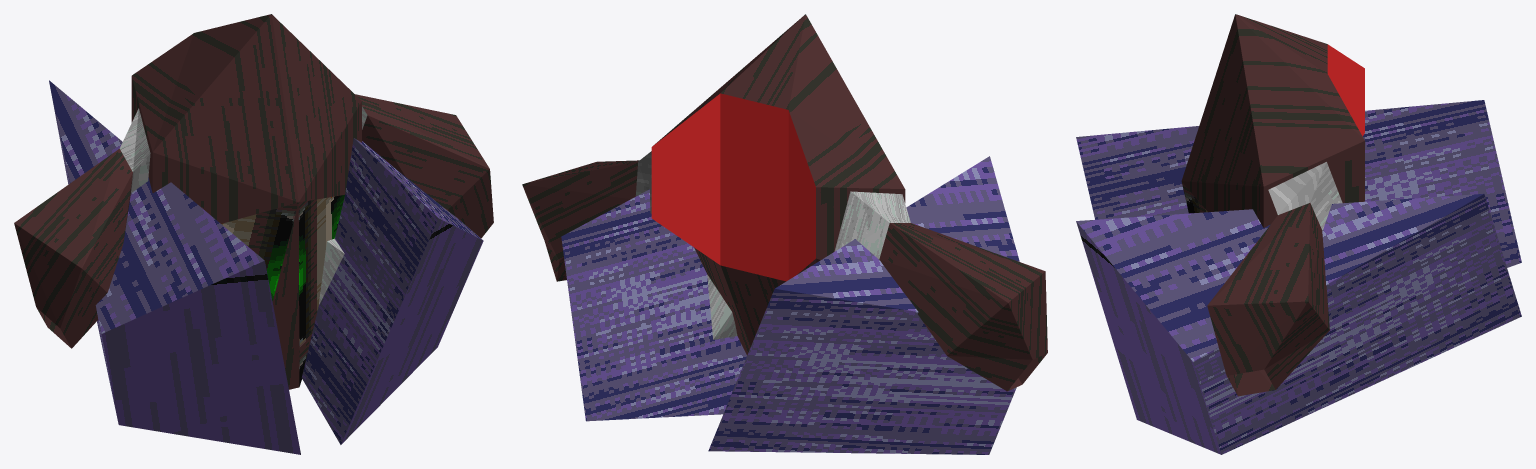
The model's file is model_067_robot.glb.
3 renders of one model, left to right at view 1: azimuth 30°, elevation 25°; view 2: azimuth 150°, elevation 25°; view 3: azimuth 270°, elevation 25°, orthographic. The views are drawn at different scales.
Visible parts, largest first — view 1: model_067; view 2: model_067; view 3: model_067.
Part boxes in pixels (x1,y1,x2,y2): model_067: [14, 14, 493, 454]; model_067: [522, 14, 1047, 454]; model_067: [1076, 14, 1521, 454].
Size of the model in its own units: 6.83 by 5.88 by 5.99.
Materials: 6 (6 with a texture image).
